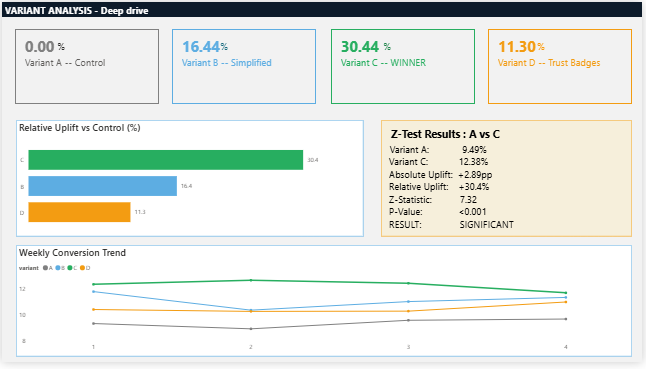

What the dashboard file says about the page in this screenshot:
{"tool":"powerbi","page":{"name":"Variant Analysis","canvas":[1280,720],"ordinal":1},"visuals":[{"type":"shape","box":[0,0,1280,30],"z":0},{"type":"multiRowCard","fields":{"Values":["Measures (2).Relative Uplift %"]},"box":[26.7,53.3,288.3,150],"z":1000},{"type":"multiRowCard","fields":{"Values":["Measures (2).Relative Uplift %"]},"box":[971.7,53.3,288.3,150],"z":2000},{"type":"multiRowCard","fields":{"Values":["Measures (2).Relative Uplift %"]},"box":[658.3,53.3,288.3,150],"z":3000},{"type":"multiRowCard","fields":{"Values":["Measures (2).Relative Uplift %"]},"box":[340,53.3,288.3,150],"z":4000},{"type":"lineChart","title":"Weekly Conversion Trend","fields":{"Y":["Measures (2).Conversion Rate"],"Series":["checkout_ab_test_data.variant"],"Category":["checkout_ab_test_data.Experiment_week"]},"box":[28.3,485,1231.7,223.3],"z":5000},{"type":"textbox","box":[455,236.7,255,51.7],"z":6000},{"type":"clusteredBarChart","title":"Relative Uplift vs Control (%)","fields":{"Category":["checkout_ab_test_data.variant"],"Y":["Measures (2).Relative Uplift %"]},"box":[28.3,235,695,233.3],"z":7000},{"type":"textbox","box":[758.3,235,501.7,233.3],"z":8000},{"type":"textbox","box":[106.7,70,38.3,43.3],"z":9000},{"type":"textbox","box":[421.7,70,46.7,58.3],"z":10000},{"type":"textbox","box":[758.3,70,81.7,43.3],"z":11000},{"type":"textbox","box":[1050,70,48.3,43.3],"z":12000}]}

Visuals, with their boxes in screenshot pixels (x1, y1, x2, y2), scaled from the page's 1280x720 canvas onto the 646x369 screenshot:
shape: {"x1": 0, "y1": 0, "x2": 645, "y2": 15}
multiRowCard - Measures (2).Relative Uplift %: {"x1": 13, "y1": 27, "x2": 159, "y2": 104}
multiRowCard - Measures (2).Relative Uplift %: {"x1": 490, "y1": 27, "x2": 636, "y2": 104}
multiRowCard - Measures (2).Relative Uplift %: {"x1": 332, "y1": 27, "x2": 478, "y2": 104}
multiRowCard - Measures (2).Relative Uplift %: {"x1": 172, "y1": 27, "x2": 317, "y2": 104}
"Weekly Conversion Trend" lineChart: {"x1": 14, "y1": 249, "x2": 636, "y2": 363}
textbox: {"x1": 230, "y1": 121, "x2": 358, "y2": 148}
"Relative Uplift vs Control (%)" clusteredBarChart: {"x1": 14, "y1": 120, "x2": 365, "y2": 240}
textbox: {"x1": 383, "y1": 120, "x2": 636, "y2": 240}
textbox: {"x1": 54, "y1": 36, "x2": 73, "y2": 58}
textbox: {"x1": 213, "y1": 36, "x2": 236, "y2": 66}
textbox: {"x1": 383, "y1": 36, "x2": 424, "y2": 58}
textbox: {"x1": 530, "y1": 36, "x2": 554, "y2": 58}
